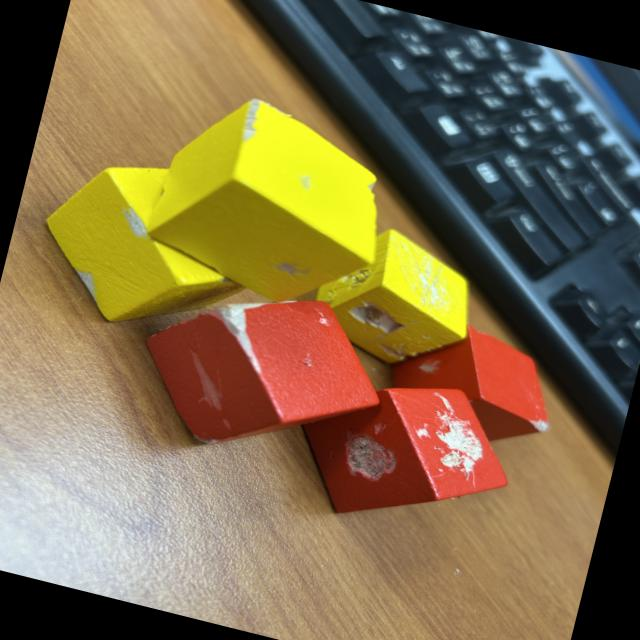broken: (138, 80, 406, 322), (124, 262, 399, 482), (22, 141, 270, 353), (279, 352, 526, 552), (304, 214, 490, 380), (378, 308, 568, 456)
